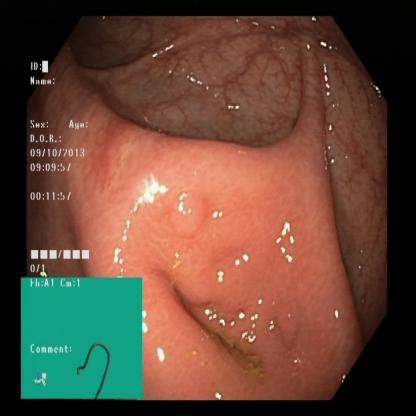Labels: (21, 275, 142, 401), (30, 60, 97, 276)
Polyps: (173, 164, 211, 248)
